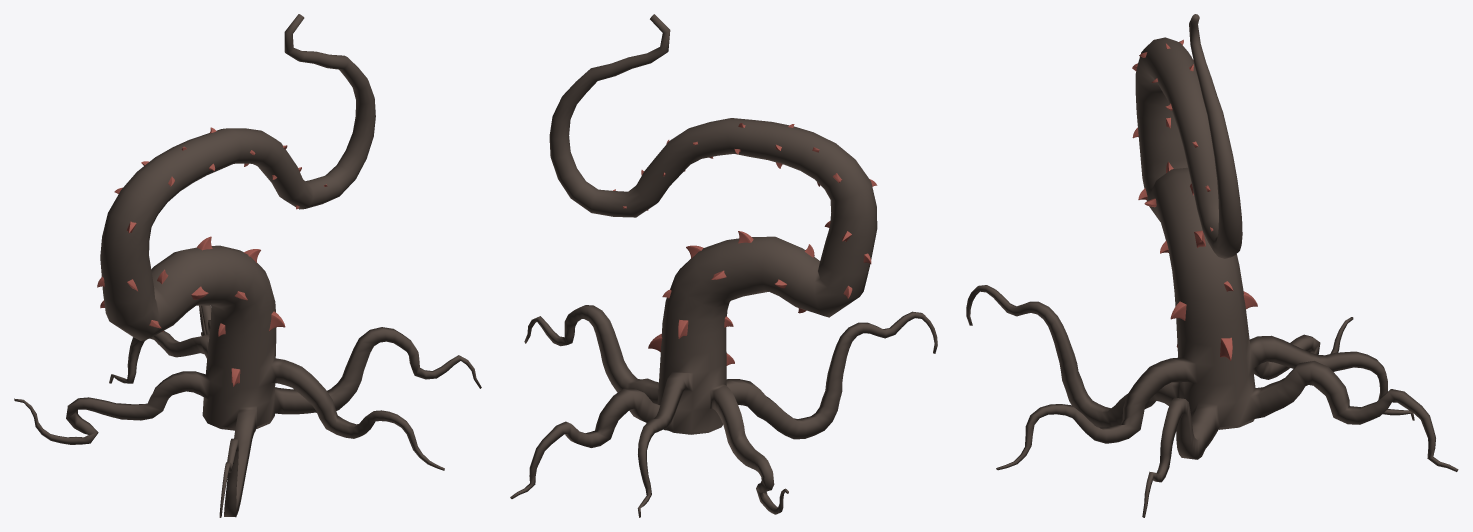
File: RootArm05.fbx
The picture shows the model from 3 angles, left to right: view 1: azimuth 30°, elevation 25°; view 2: azimuth 150°, elevation 25°; view 3: azimuth 270°, elevation 25°; orthographic projection. The views are drawn at different scales.
Parts seen in each view (by area): view 1: 15_LOD0; view 2: 15_LOD0; view 3: 15_LOD0.
Boxes of the visible parts, x1=… form: 15_LOD0: x1=14, y1=14, x2=481, y2=517; 15_LOD0: x1=510, y1=14, x2=937, y2=517; 15_LOD0: x1=966, y1=14, x2=1458, y2=517.
Size of what is drawn, in the model's own units: 424 by 481 by 456.
